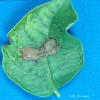Potato leaf late blight: (1, 0, 85, 97)
